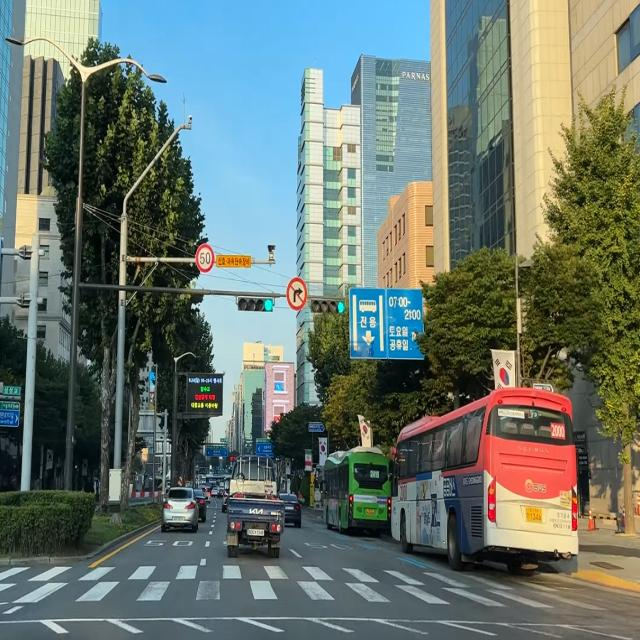Green Light: (264, 298, 272, 312), (337, 300, 345, 313)
